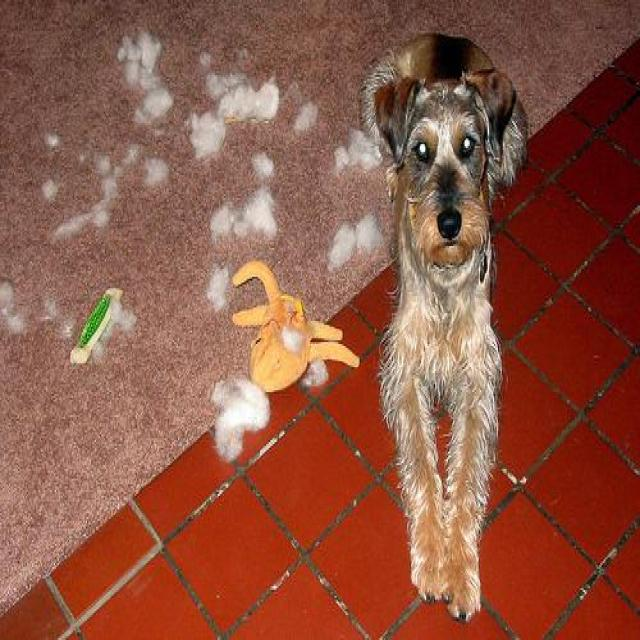standard_schnauzer: (358, 31, 530, 624)
